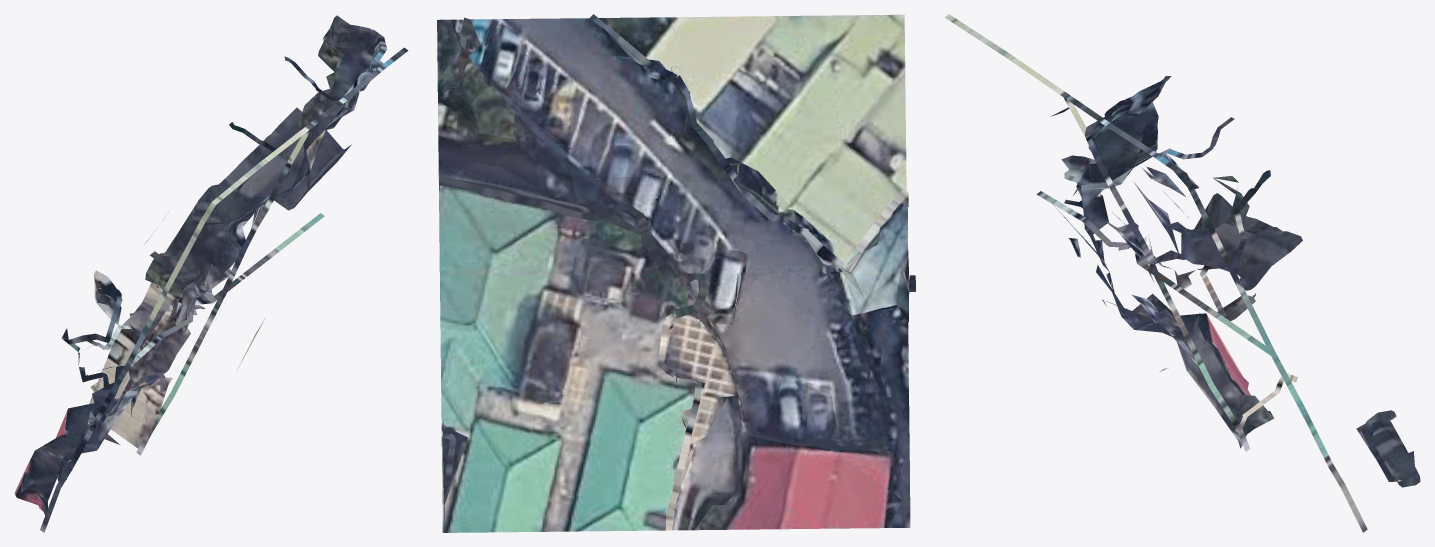
3 renders of one model, left to right at view 1: azimuth 30°, elevation 25°; view 2: azimuth 150°, elevation 25°; view 3: azimuth 270°, elevation 25°, orthographic. The views are drawn at different scales.
Size of the model in its own units: 38.76 by 37.56 by 36.77.
Materials: 2 (2 with a texture image).
